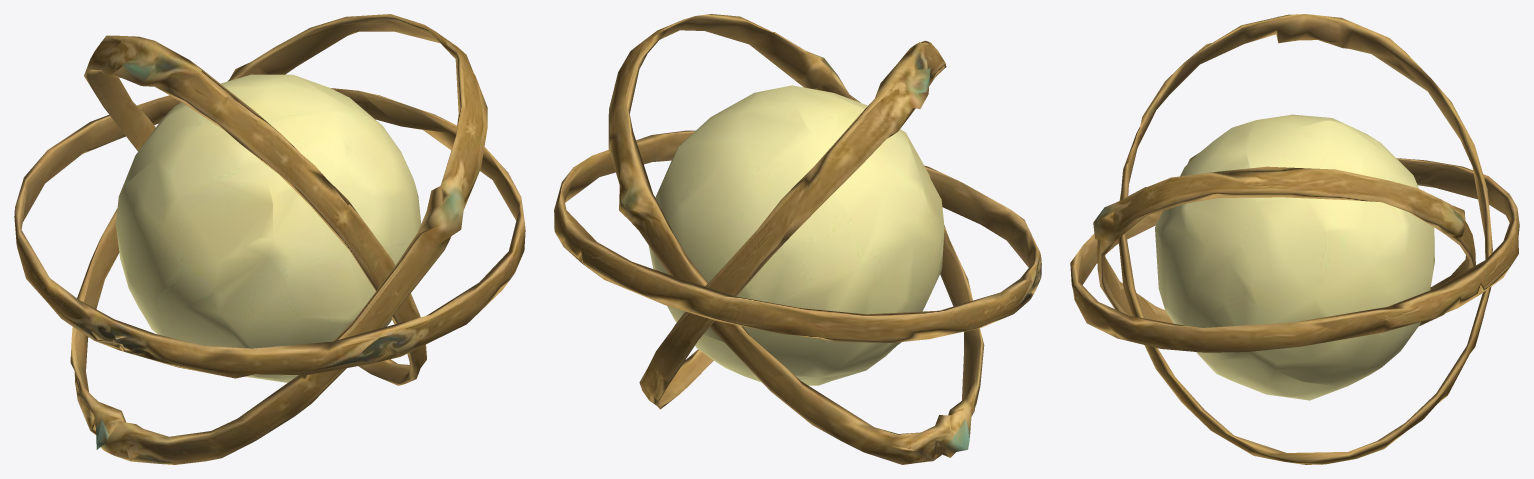
Rendered from prop_than_nien_chau.529a897059.glb.
3 views of the same model, side by side, from view 1: azimuth 30°, elevation 25°; view 2: azimuth 150°, elevation 25°; view 3: azimuth 270°, elevation 25° (orthographic). The views are drawn at different scales.
Parts seen in each view (by area): view 1: prop_than_nien_chau; view 2: prop_than_nien_chau; view 3: prop_than_nien_chau.
Boxes of the visible parts, bbox=[...] form: prop_than_nien_chau: bbox=[14, 14, 525, 464]; prop_than_nien_chau: bbox=[554, 14, 1041, 464]; prop_than_nien_chau: bbox=[1070, 14, 1519, 464].
Size of what is drawn, in the model's own units: 0.25 by 0.2189 by 0.2431.
Materials: 1 (1 with a texture image).
